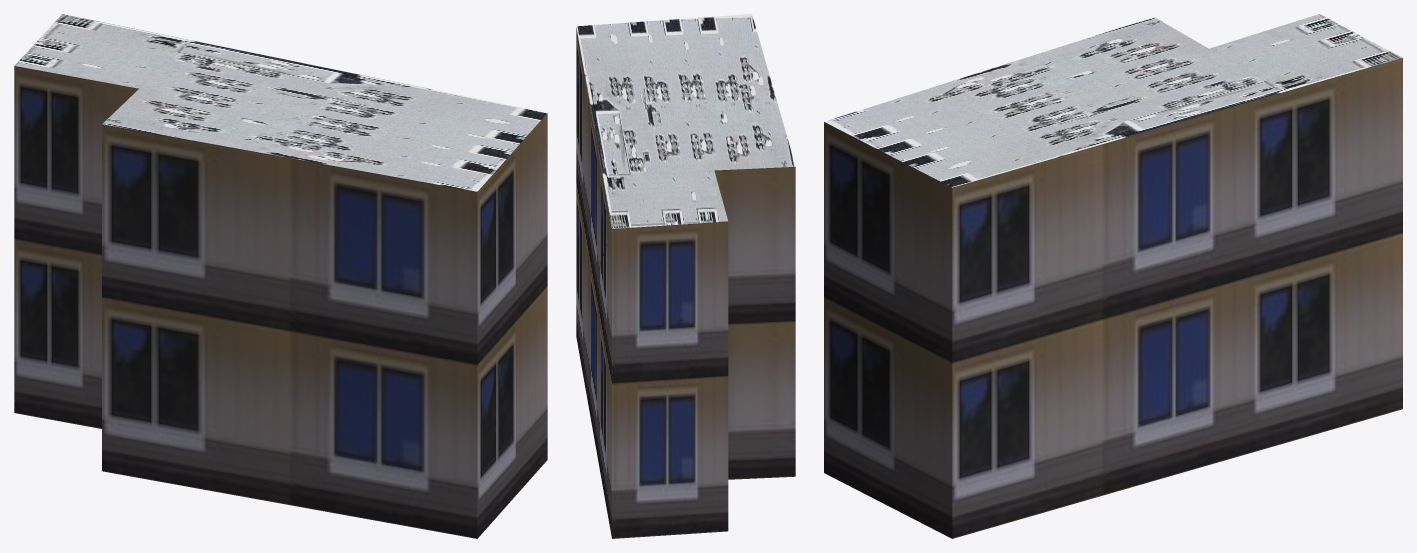
Rendered from ResTex__1577.fbx.
3 renders of one model, left to right at view 1: azimuth 30°, elevation 25°; view 2: azimuth 150°, elevation 25°; view 3: azimuth 270°, elevation 25°, orthographic. The views are drawn at different scales.
Parts seen in each view (by area): view 1: CityEngineMaterial_5_m, CityEngineMaterial_8_m; view 2: CityEngineMaterial_5_m, CityEngineMaterial_8_m; view 3: CityEngineMaterial_5_m, CityEngineMaterial_8_m.
Part boxes in pixels (bbox=[...]): CityEngineMaterial_5_m: bbox=[14, 66, 547, 538]; CityEngineMaterial_8_m: bbox=[14, 14, 546, 191]; CityEngineMaterial_5_m: bbox=[576, 28, 795, 538]; CityEngineMaterial_8_m: bbox=[576, 14, 795, 228]; CityEngineMaterial_5_m: bbox=[824, 58, 1402, 538]; CityEngineMaterial_8_m: bbox=[824, 14, 1402, 187].
Bounding box in the file's own units: 6.36 × 6 × 8.96.
Materials: 2 (2 with a texture image).
